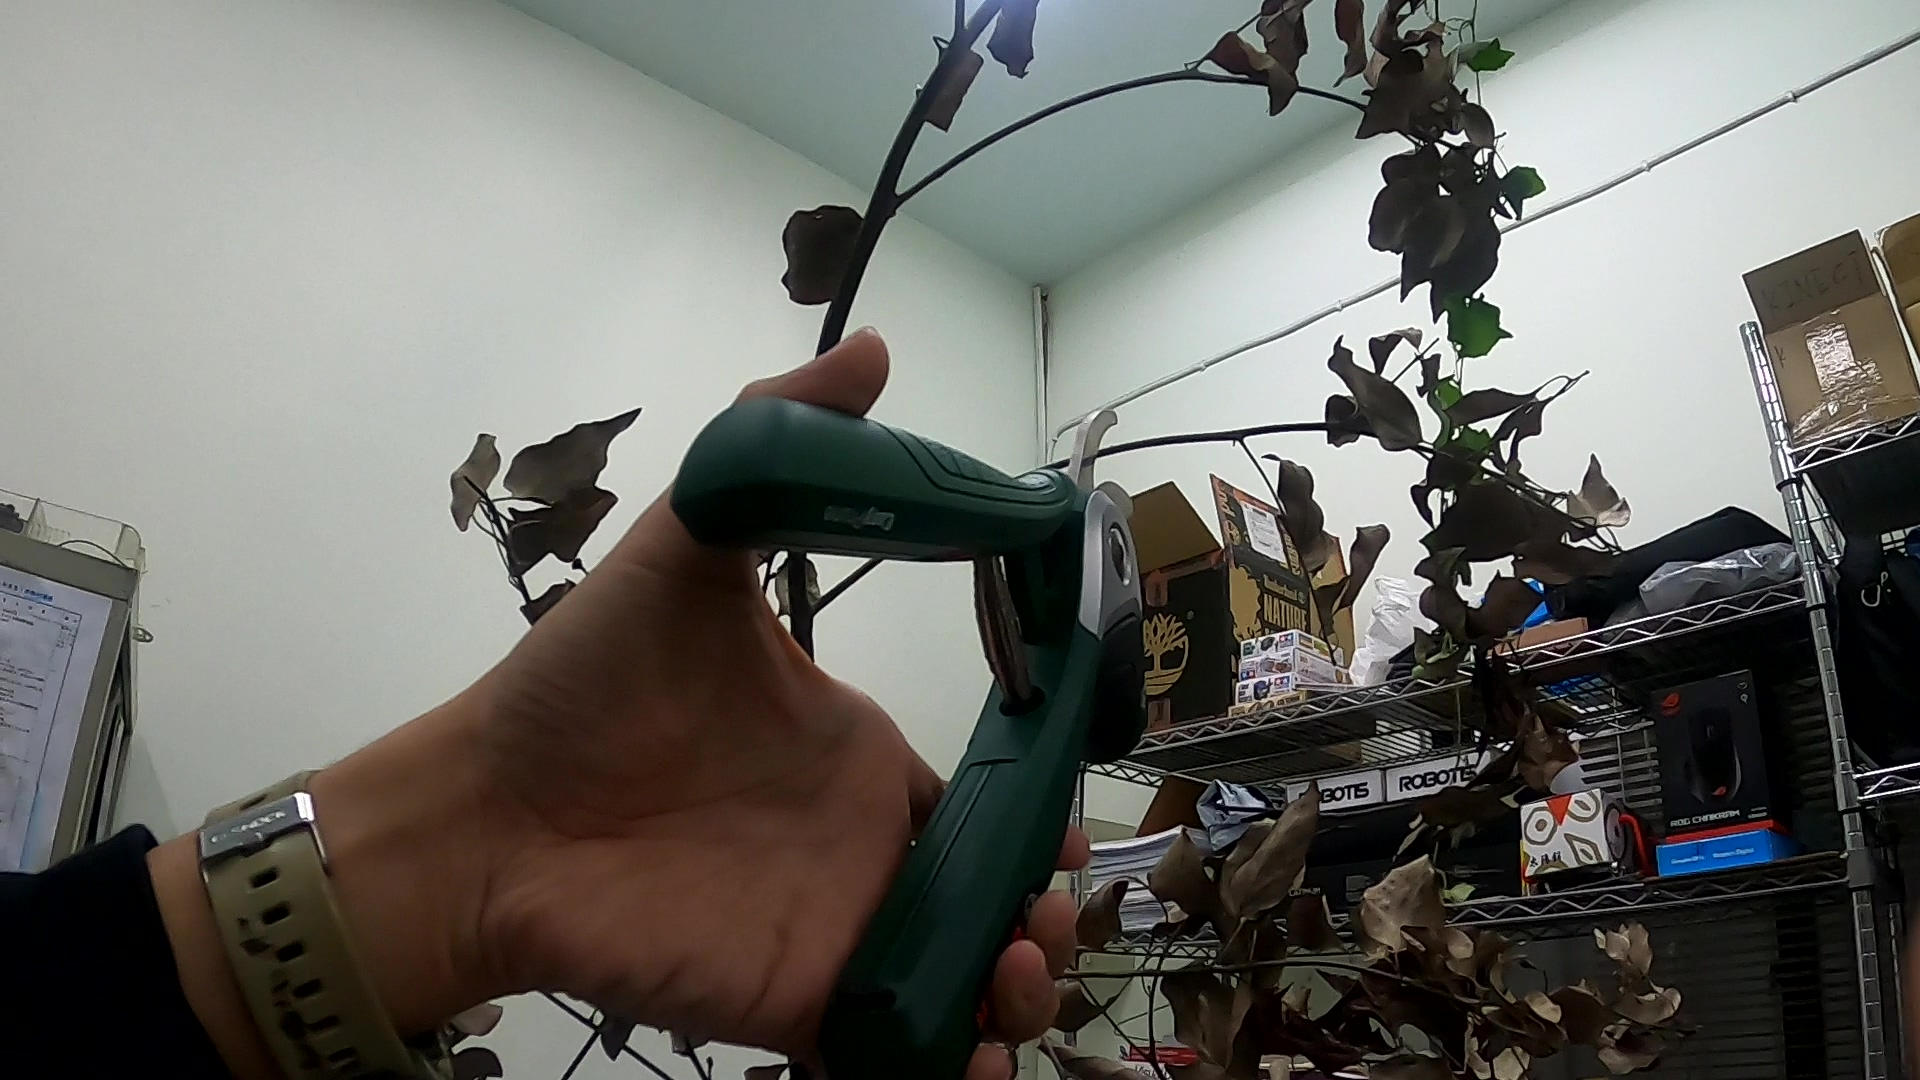ok: (680, 390, 1639, 1080)
scissors: (673, 378, 1150, 1080)
twig: (814, 425, 1615, 607), (899, 3, 1476, 225), (1056, 956, 1580, 1026), (1236, 440, 1337, 673), (529, 996, 674, 1080), (1131, 876, 1184, 1076), (458, 458, 534, 592), (1085, 989, 1150, 1062), (1375, 328, 1436, 389), (546, 1021, 611, 1077), (945, 1, 965, 34)
